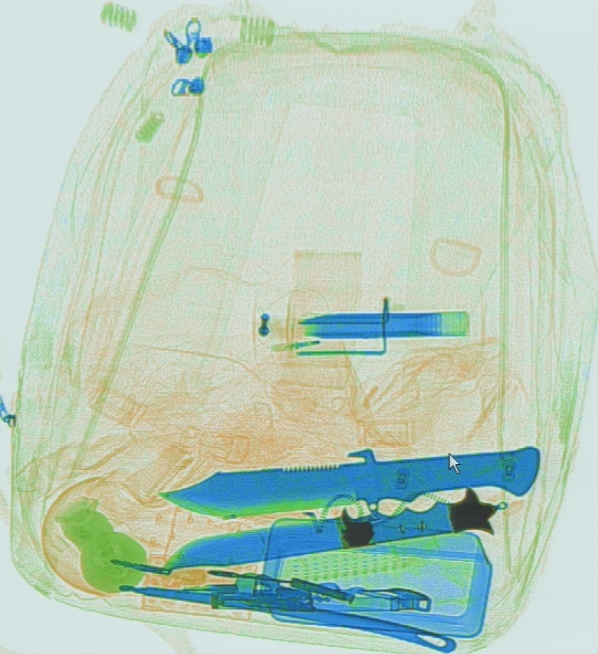knife: (156, 484, 510, 572), (155, 442, 541, 519)
